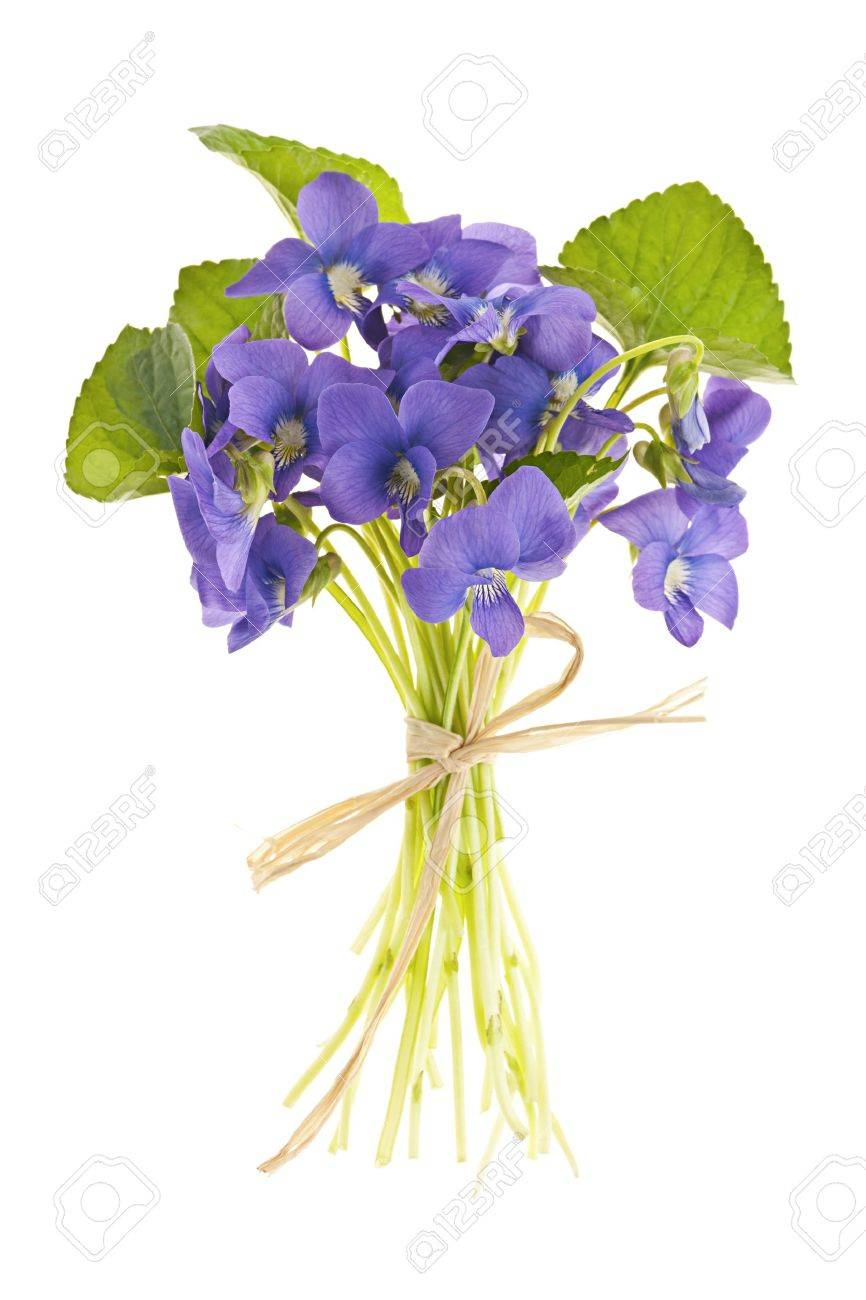violet: (381, 205, 593, 398), (421, 454, 573, 683), (153, 454, 312, 654), (246, 172, 409, 359), (311, 379, 480, 513), (621, 484, 743, 643), (664, 361, 765, 509)
